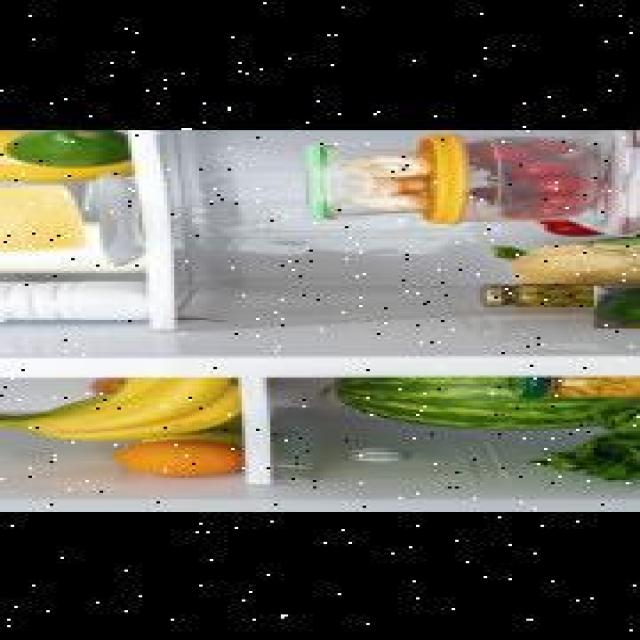avocado: (0, 128, 132, 166)
banana: (0, 376, 235, 440)
bell_pepper: (594, 282, 640, 324)
cheese: (0, 179, 100, 260)
